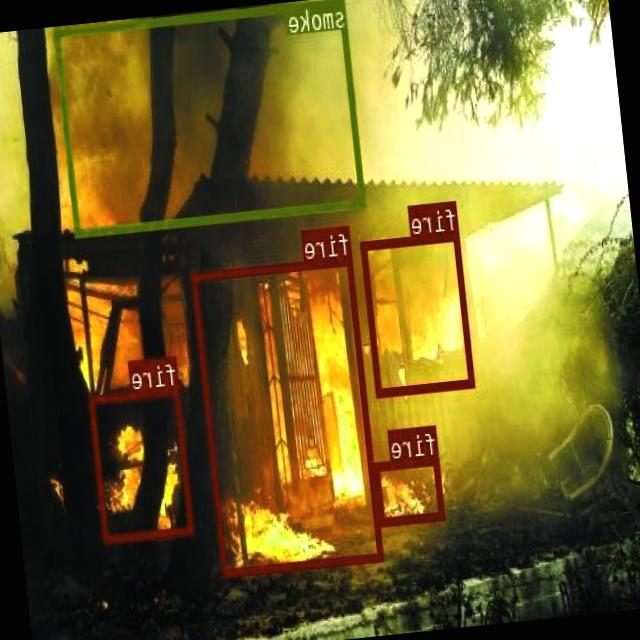fire: (192, 255, 386, 576), (362, 231, 476, 395), (90, 386, 196, 541), (374, 454, 445, 524)
smoke: (55, 0, 367, 236)
